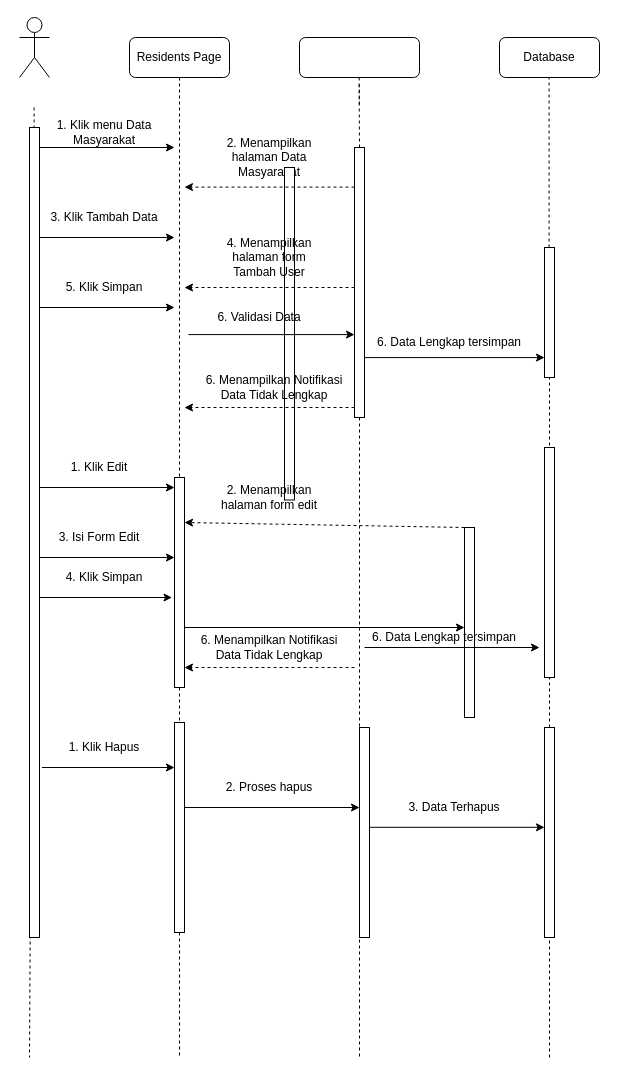
Some shapes in this 617 by 1076 pixel diagram are drawn without their labels. Each missing label, with the box of its shape:
Admin: (18, 16, 50, 78)
Sistem: (298, 36, 420, 78)
